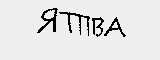А: (105, 14, 123, 37)
В: (90, 16, 106, 39)
П: (76, 12, 93, 39)
Т: (58, 9, 78, 35)
Я: (35, 7, 59, 35)
